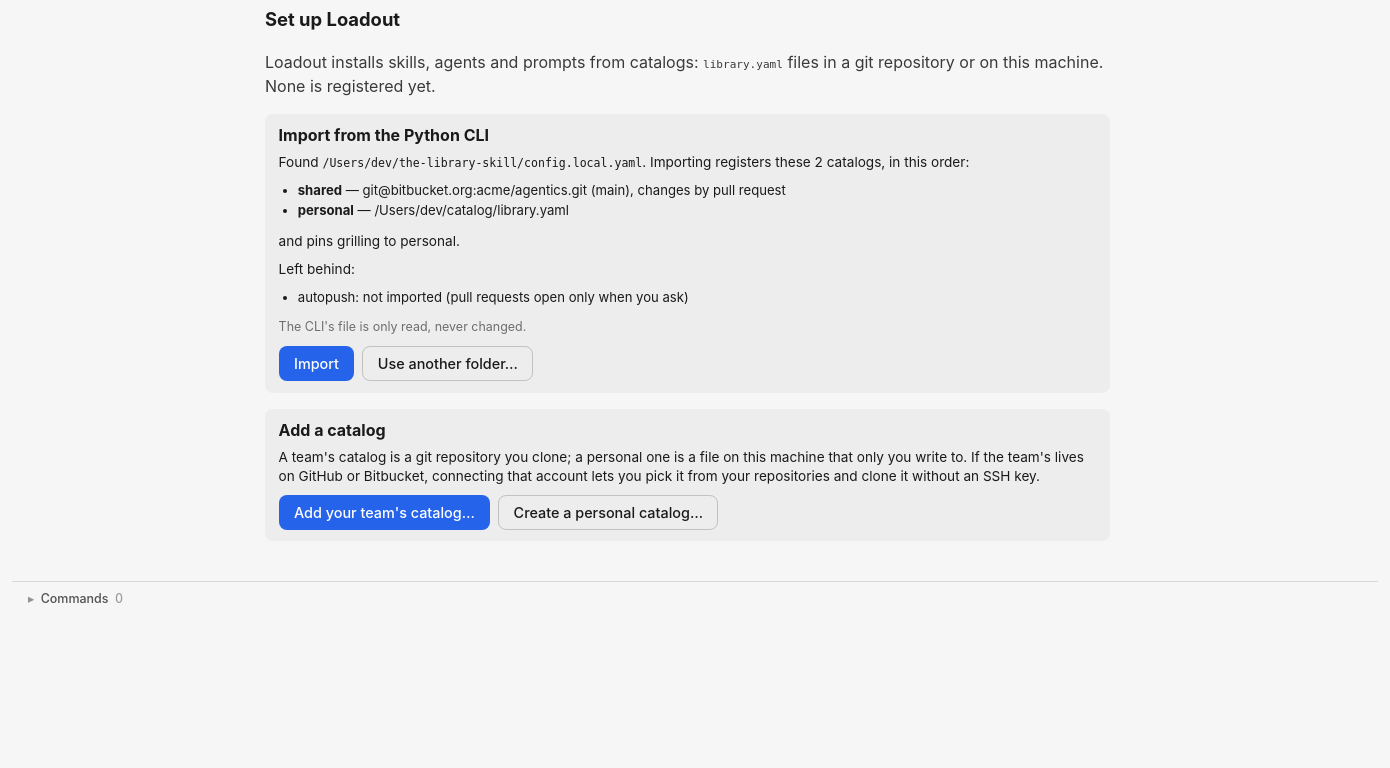
Test: first run: nothing registered › creates a personal catalog, prefilled 'personal', and lands on the loaded list
Click the button "Create a personal catalog…". click: click(608, 513)
box: [498,495,718,530]
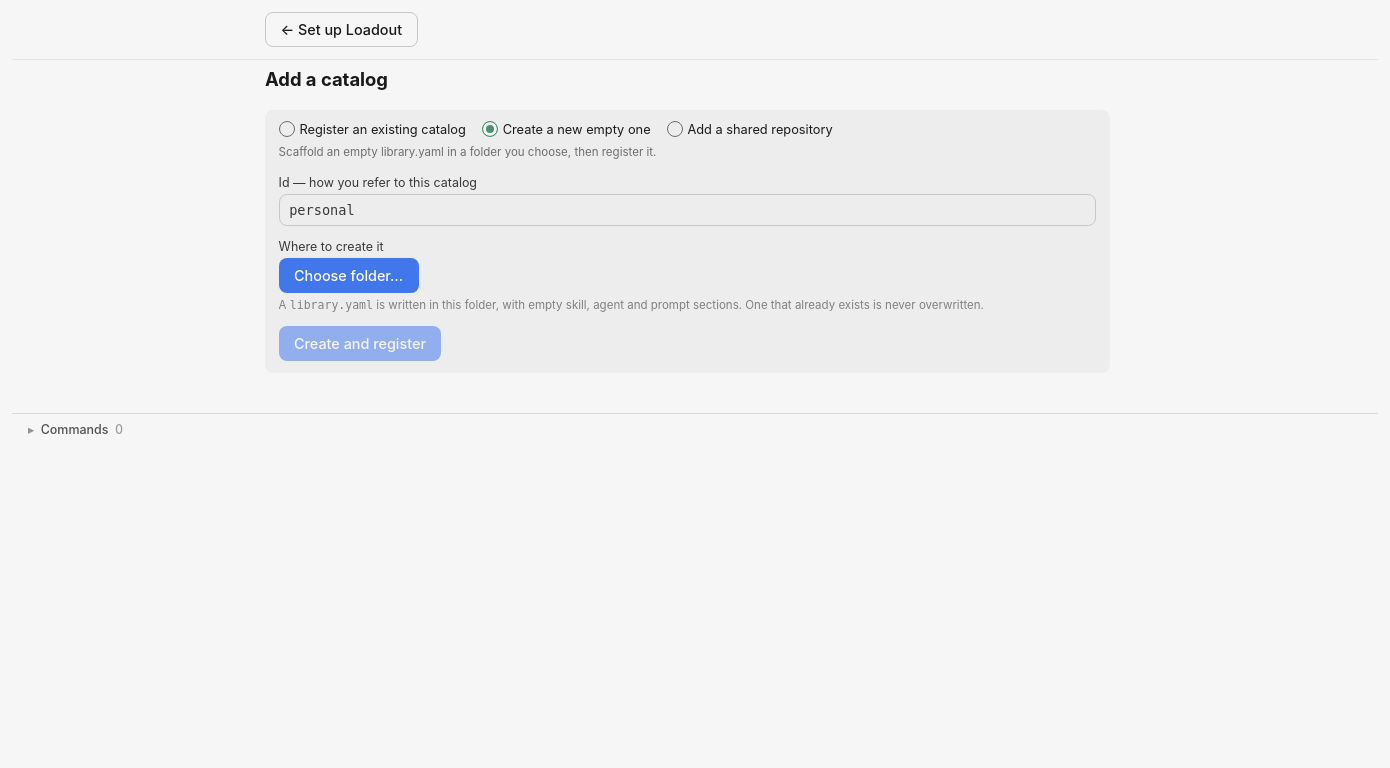
Expected: the field labelled "Id — how you refer to this catalog" holds "personal", [279,194,1096,226]
Click the button "Choose folder…". click: click(349, 275)
box: [279,258,418,293]
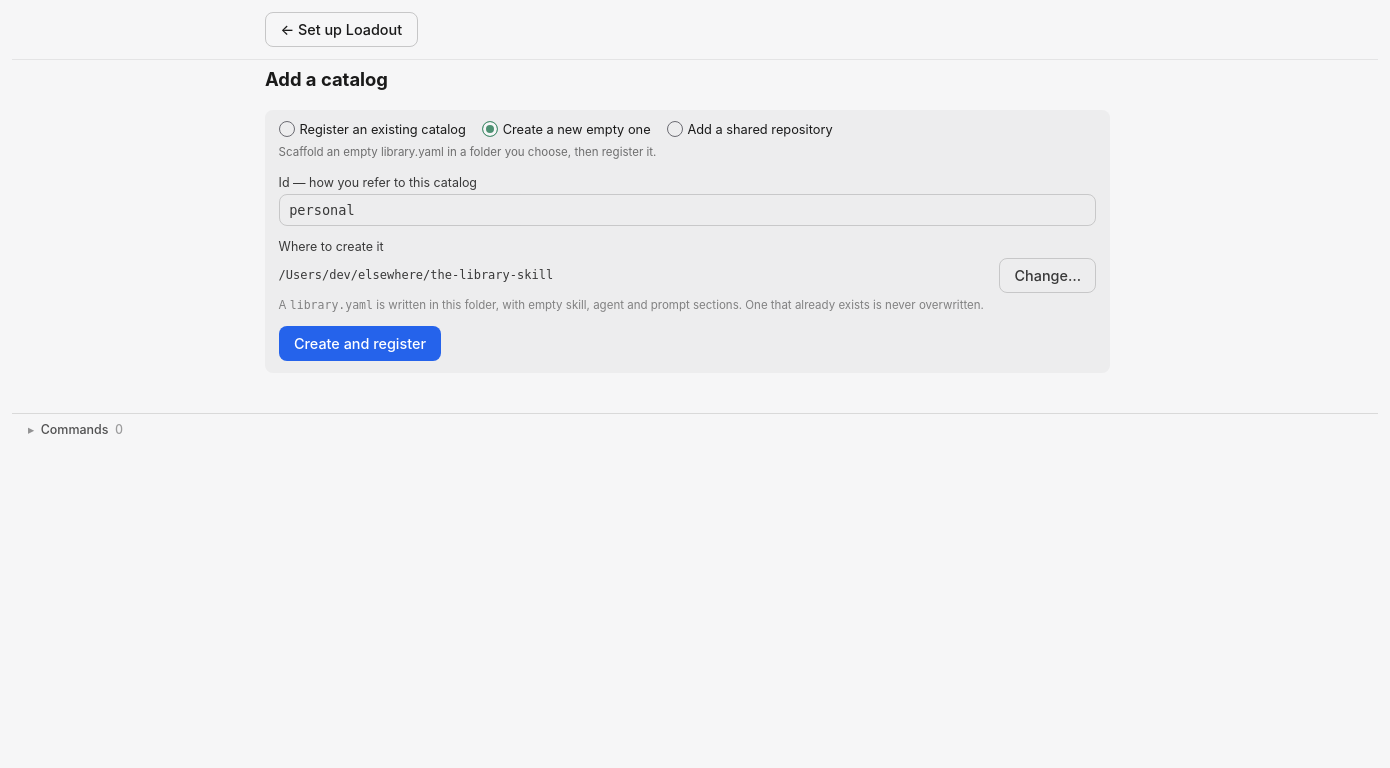
Submit the form, box [279,175,1096,361]
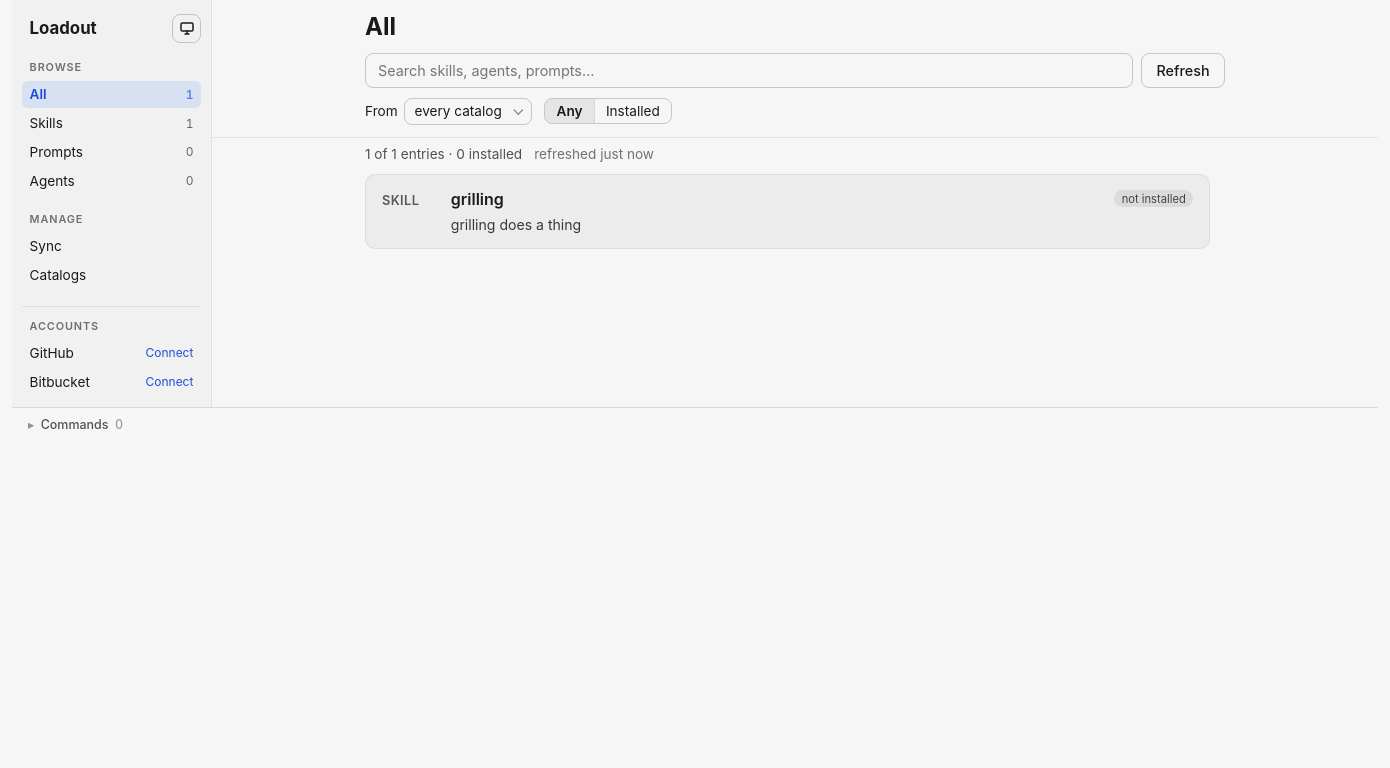
Expected: the elements with class "entry-list__name" read "grilling", in this order, [451,189,504,209]
